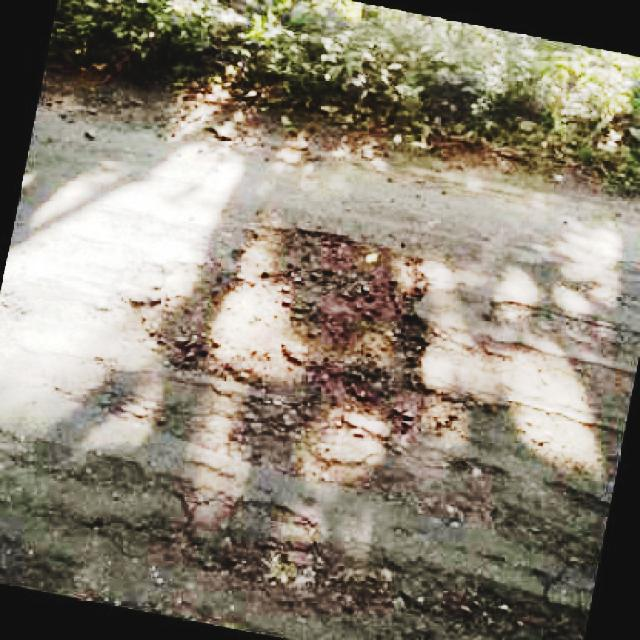pothole: (115, 220, 428, 429), (298, 535, 588, 640)
